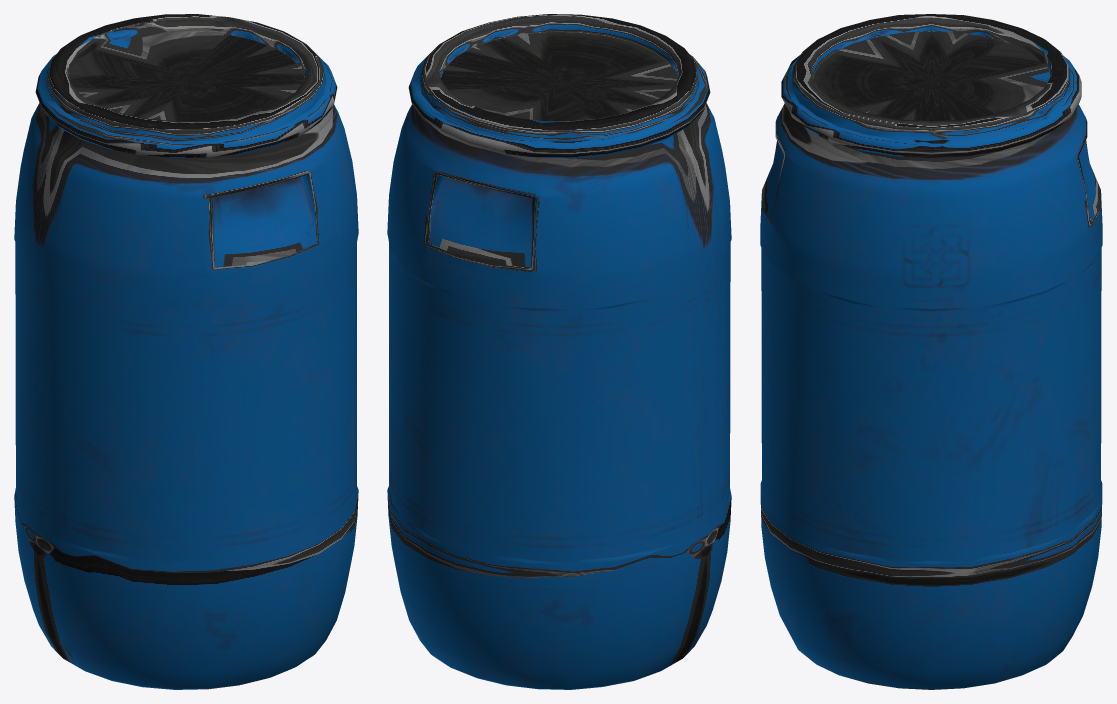
File: Barrel_02.glb
The picture shows the model from 3 angles, left to right: view 1: azimuth 30°, elevation 25°; view 2: azimuth 150°, elevation 25°; view 3: azimuth 270°, elevation 25°; orthographic projection.
Parts seen in each view (by area): view 1: Barrel_02; view 2: Barrel_02; view 3: Barrel_02.
Boxes of the visible parts, <box> form: Barrel_02: <box>14,14,358,689</box>; Barrel_02: <box>387,14,731,689</box>; Barrel_02: <box>760,14,1102,689</box>.
Size of the model in its own units: 0.4882 by 0.88 by 0.4846.
Materials: 1 (1 with a texture image).
